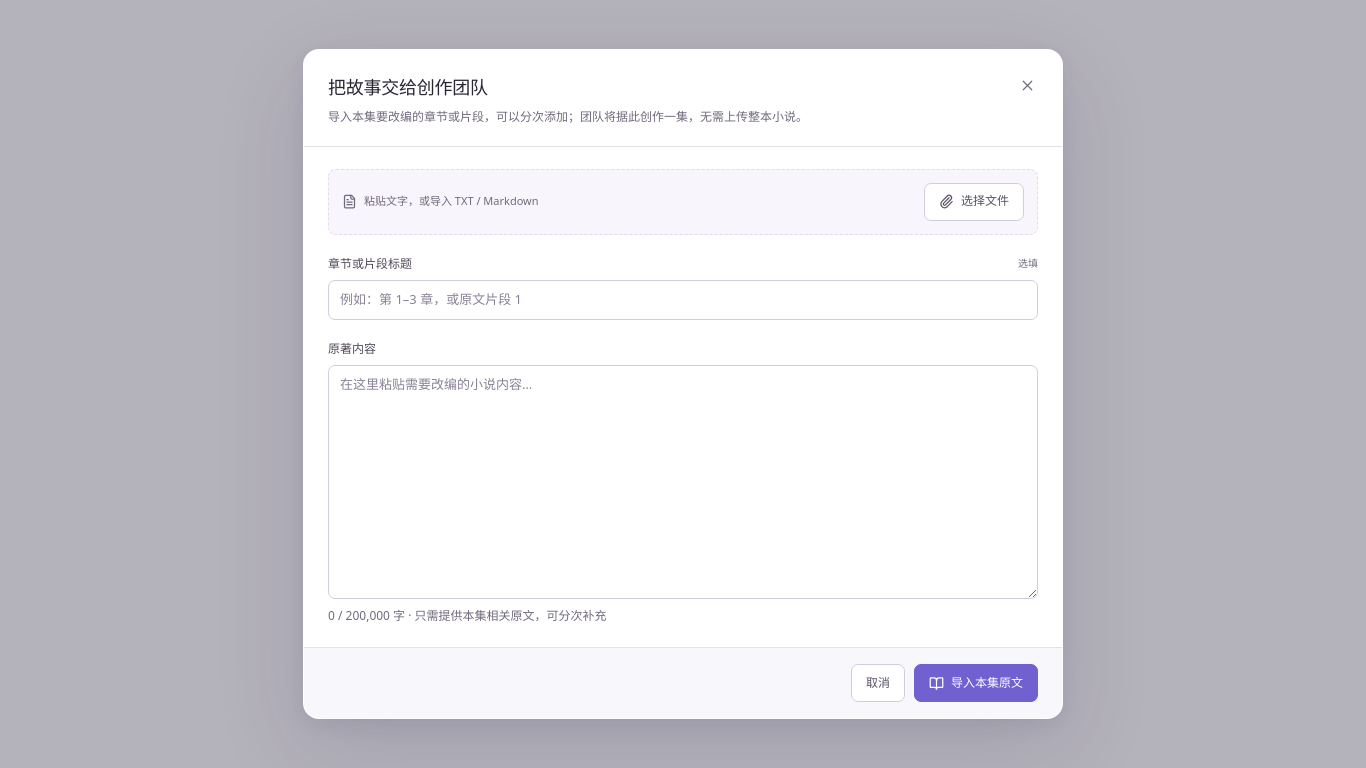
source import feedback › preserves imported text and reports an API failure in the dialog
Type "第一章的原文" into the text box labelled "原著内容" at (683, 482), box [328, 365, 1038, 599]
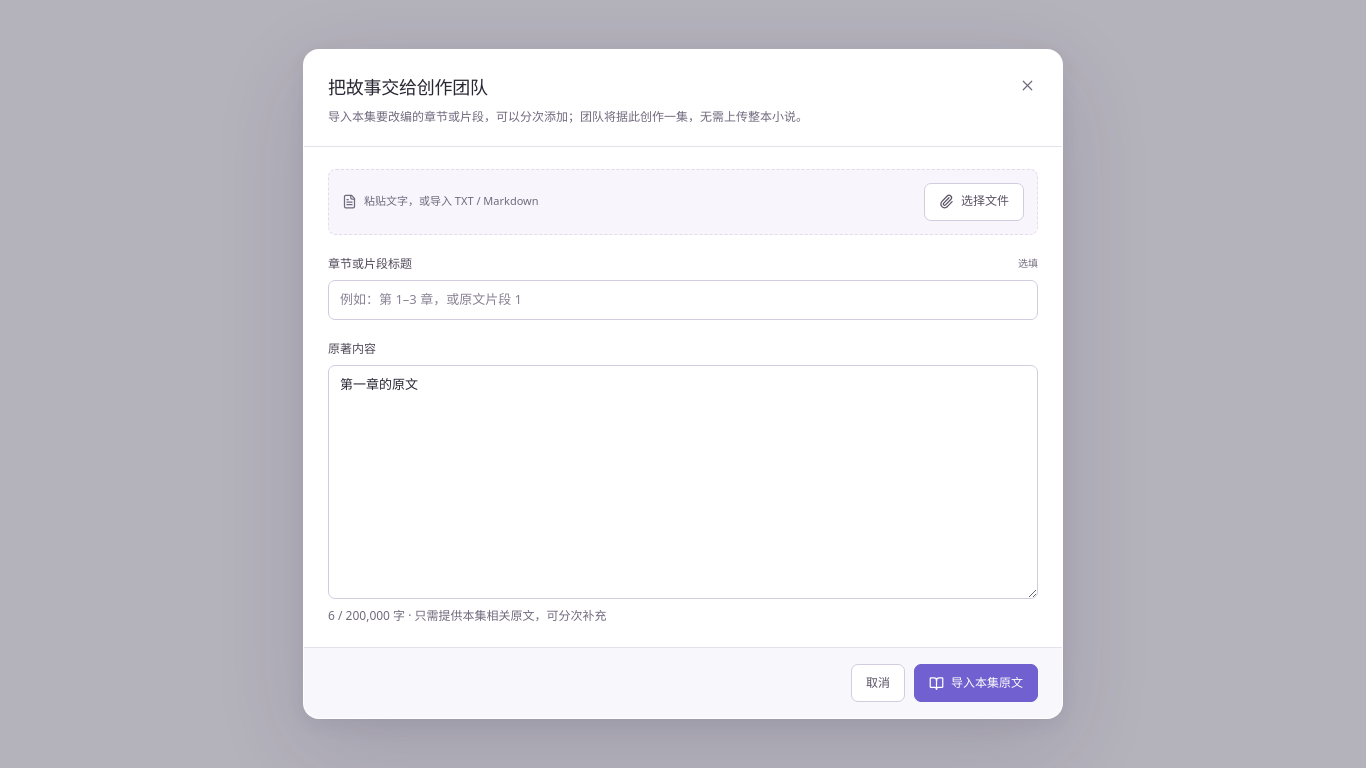
Click the button "导入本集原文" at (976, 683), box [914, 664, 1038, 702]
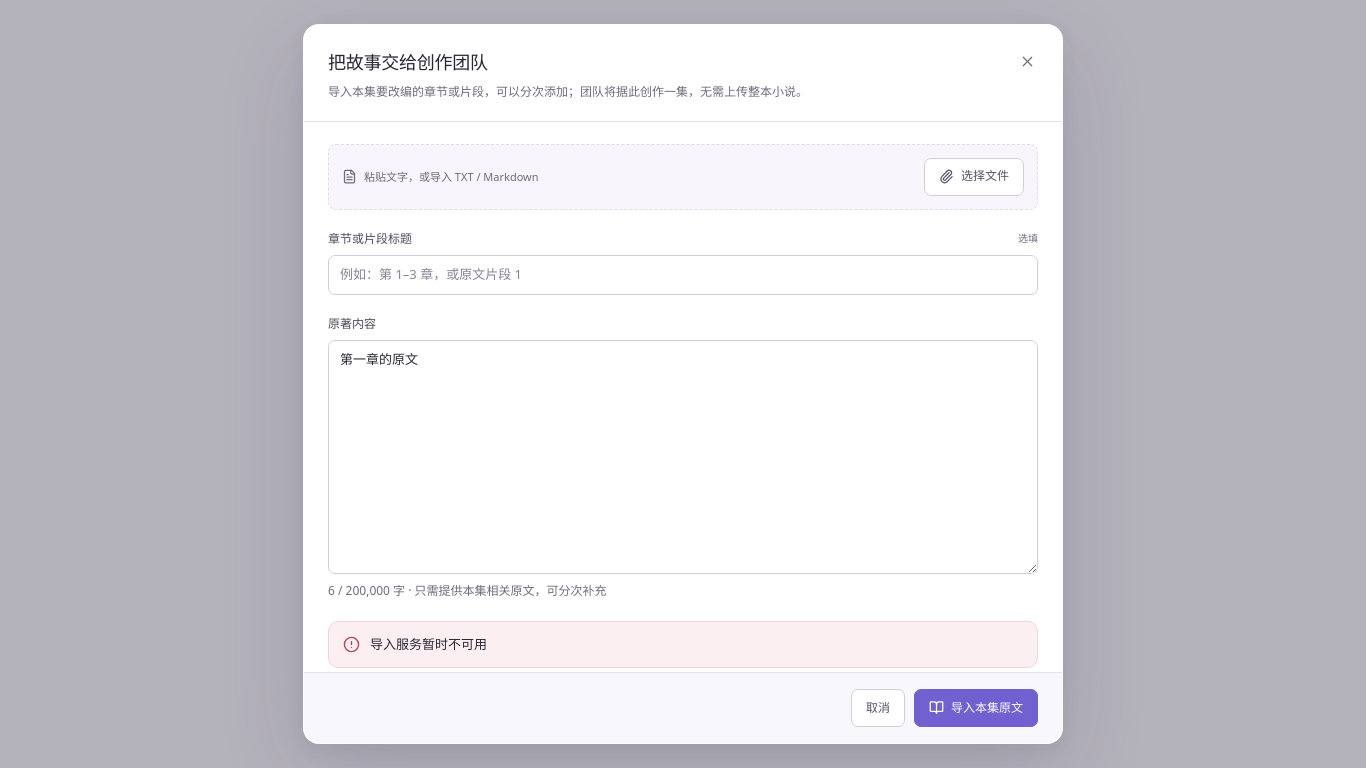
Expected: the text box labelled "原著内容" is enabled, [328, 340, 1038, 574]
Expected: the message reads "导入服务暂时不可用", [370, 635, 487, 653]
